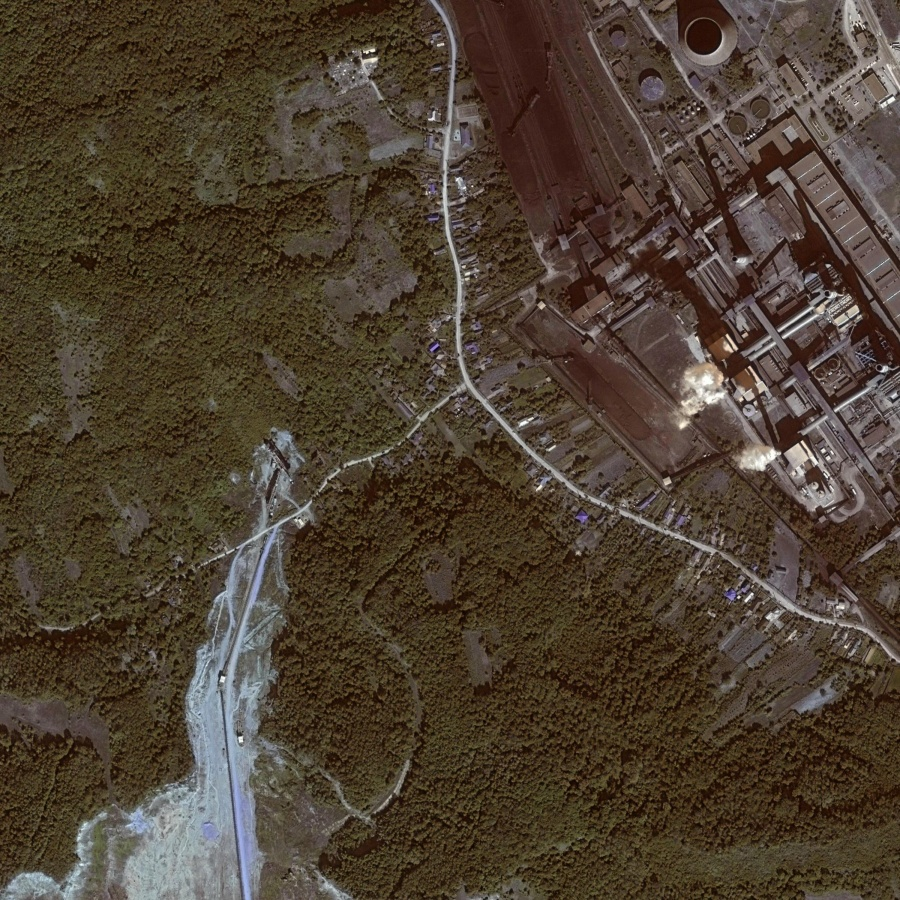PowerPlant: (564, 271, 779, 500)
